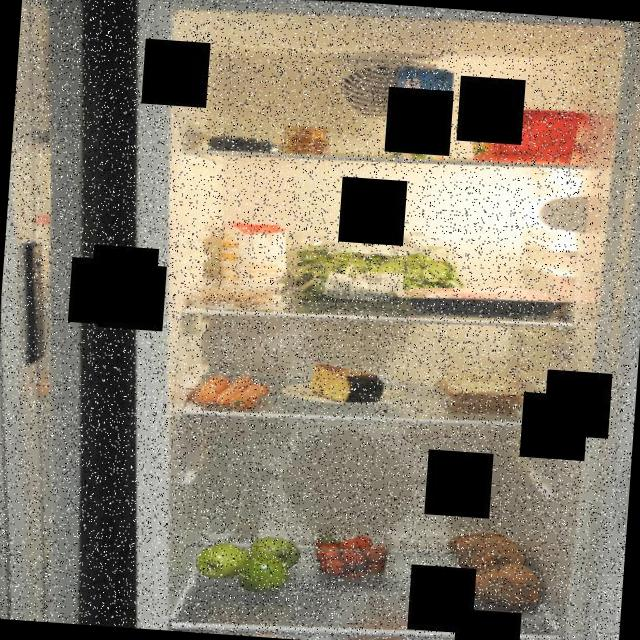Carne vacuno: (384, 276, 574, 326)
Leche: (382, 54, 461, 164)
Mantequilla: (458, 98, 591, 170)
Manzana: (189, 528, 307, 599)
Queso: (304, 356, 388, 408)
Zanahoria: (185, 369, 276, 414)
blueberries: (202, 120, 286, 156)
bread: (430, 368, 530, 420)
corn: (280, 122, 332, 158)
spinach: (286, 233, 475, 311)
strawberries: (302, 526, 393, 586)
sugar: (210, 214, 296, 310)
sweet_potato: (438, 524, 551, 614)
